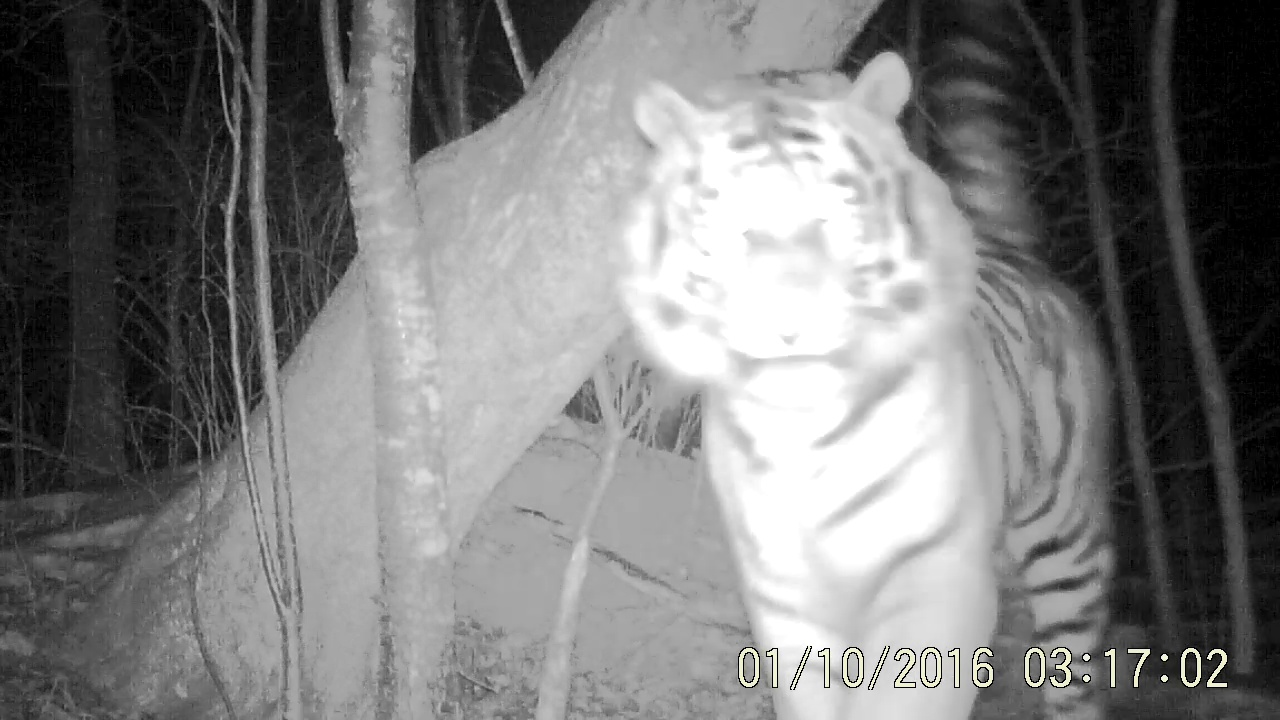Tiger: (575, 42, 1187, 644)
